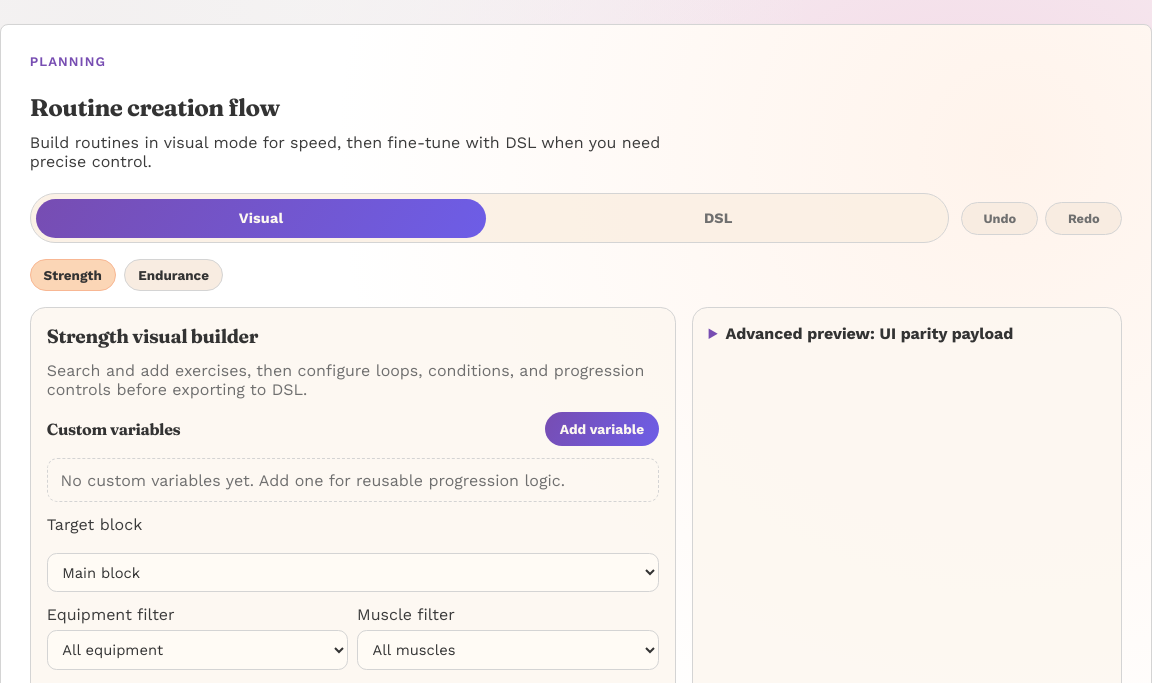
Test: RoutineCreationFlow › requires confirmation before destructive remove actions
The width and height of the screenshot is (1152, 683).
Click the button "Add variable": {"x": 602, "y": 429} x1=545 y1=412 x2=659 y2=446
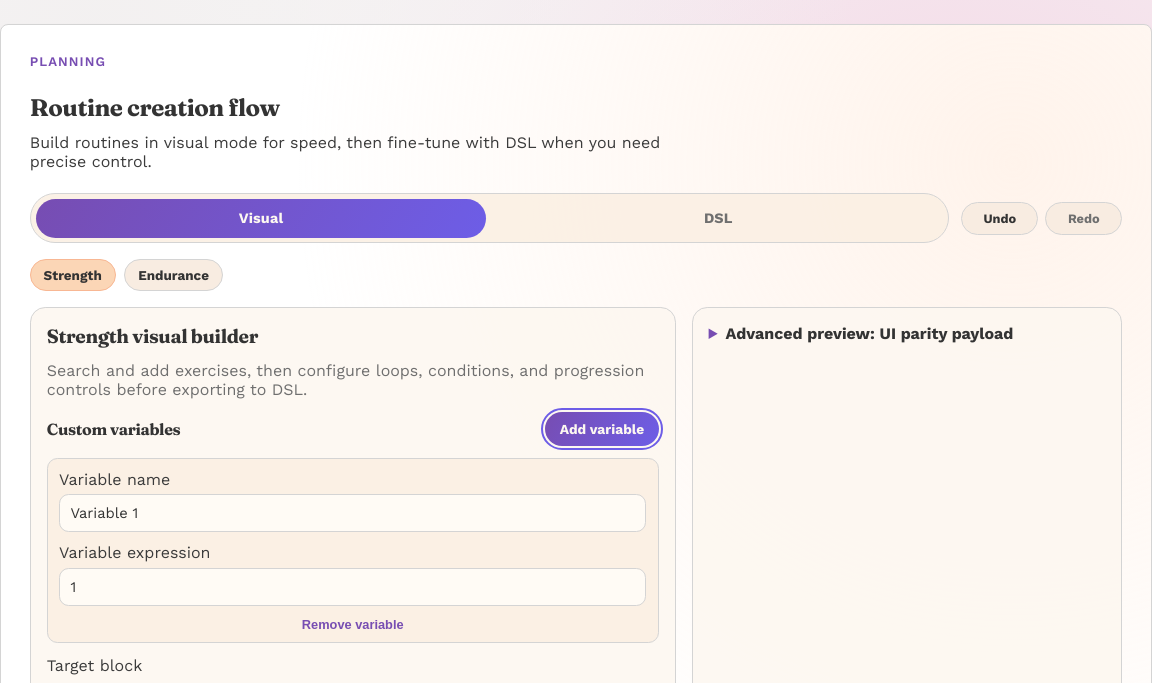
Now the field labelled "Variable name" is shown, box x1=59 y1=494 x2=646 y2=532
Click the button "Remove variable": {"x": 353, "y": 625} x1=59 y1=617 x2=646 y2=632
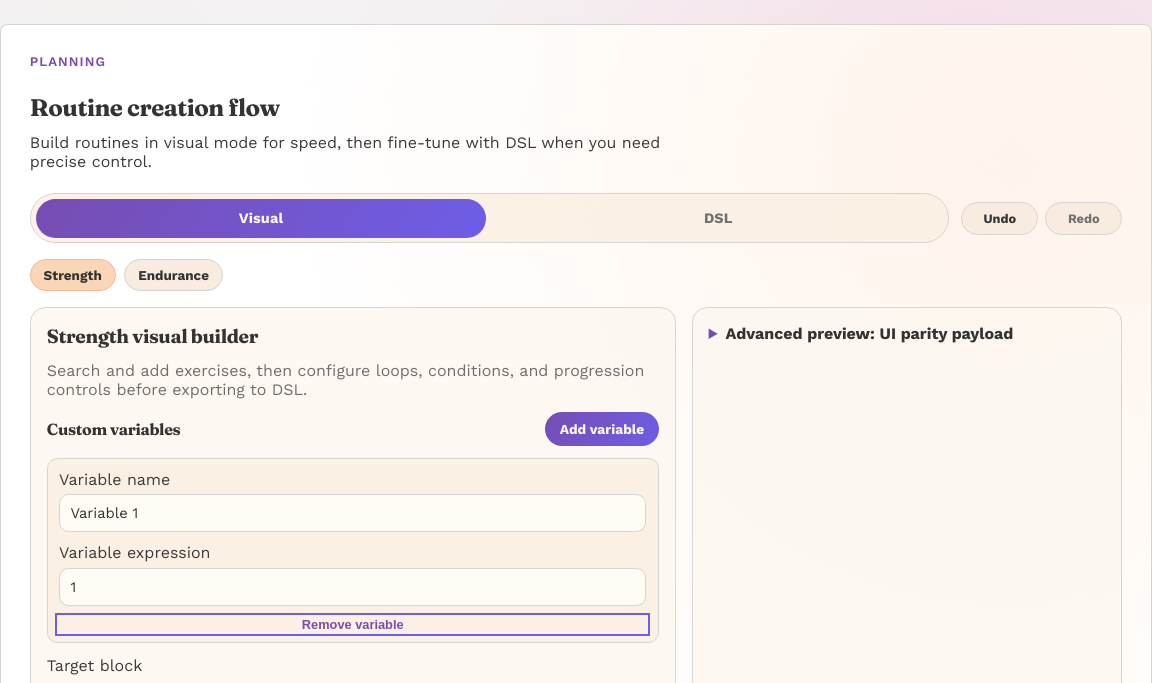
Now the field labelled "Variable name" is shown, box x1=59 y1=494 x2=646 y2=532
Click the button "Remove variable": {"x": 353, "y": 625} x1=59 y1=617 x2=646 y2=632
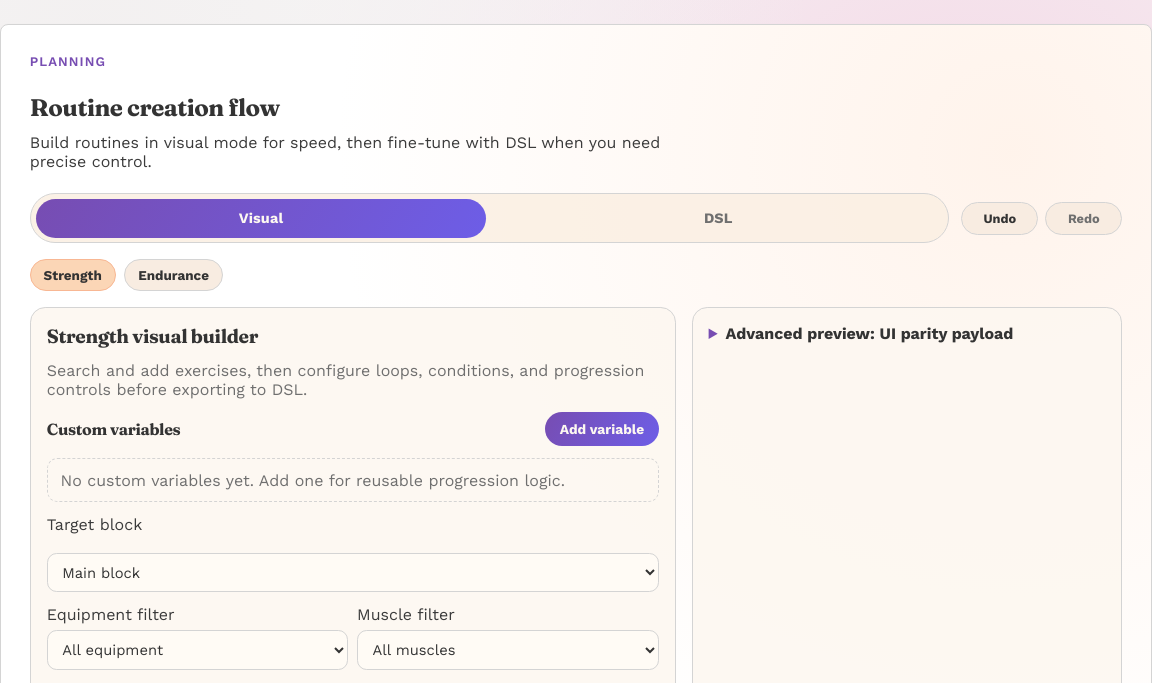
Now the label "Variable name" is gone
